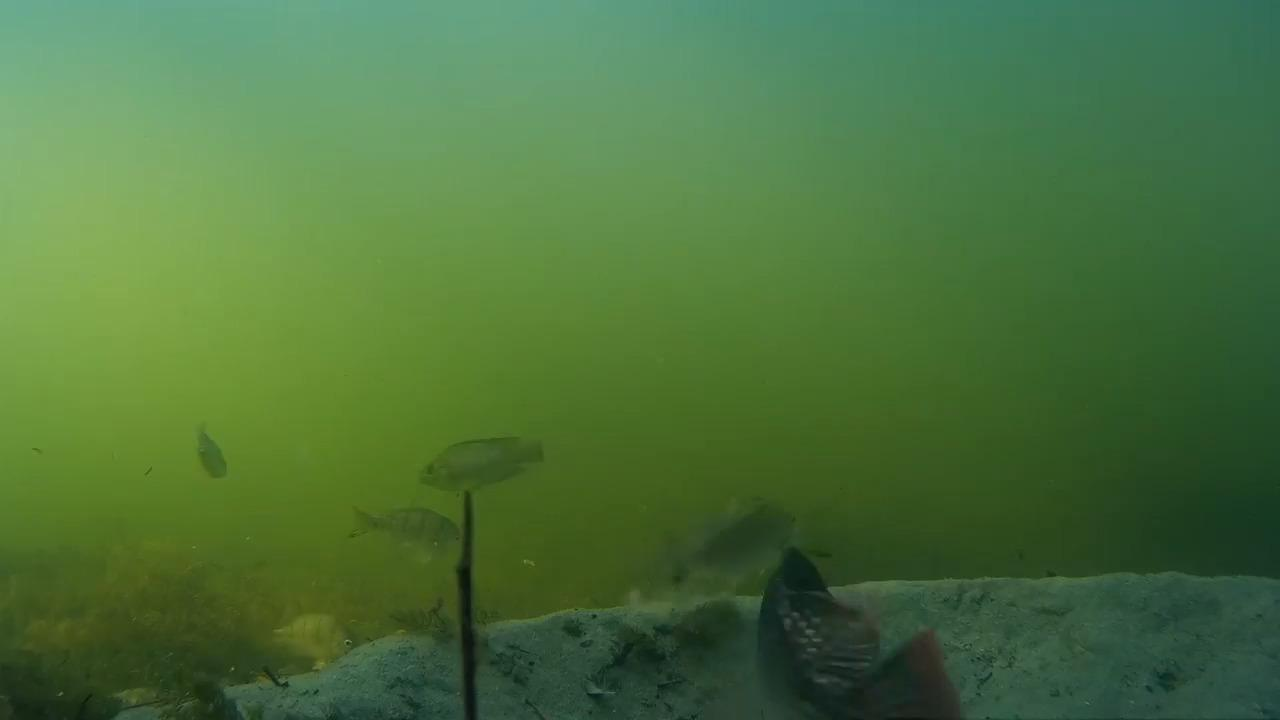Tilapia: (725, 558, 968, 720), (651, 492, 786, 592), (337, 488, 478, 582), (399, 424, 556, 498), (189, 434, 242, 486)
